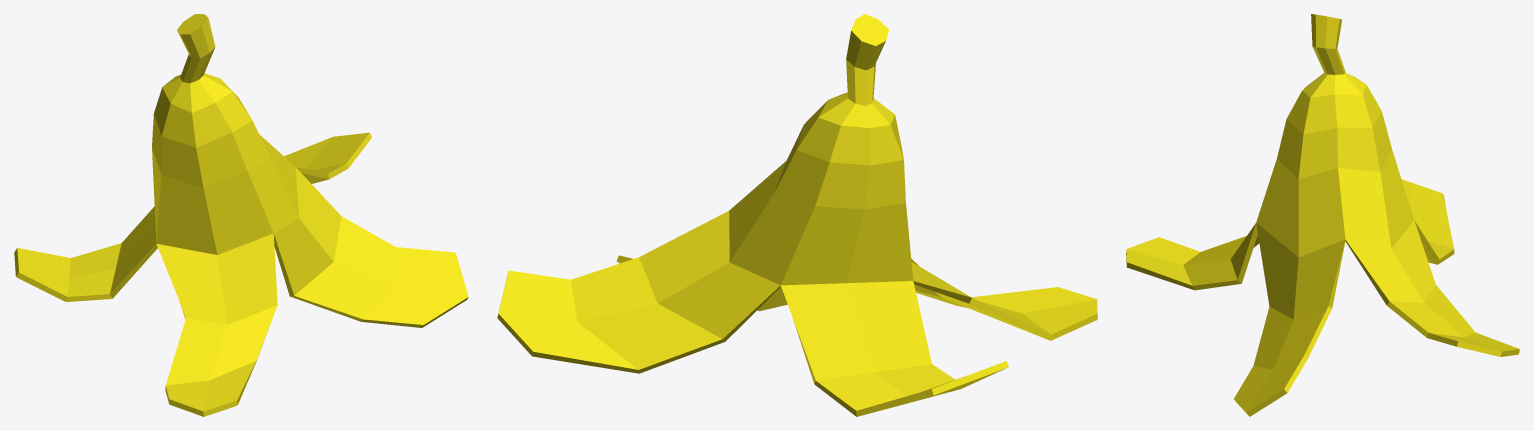
File: Trash_Banana_00.fbx
3 renders of one model, left to right at view 1: azimuth 30°, elevation 25°; view 2: azimuth 150°, elevation 25°; view 3: azimuth 270°, elevation 25°, orthographic. The views are drawn at different scales.
Visible parts, largest first — view 1: Banana_00; view 2: Banana_00; view 3: Banana_00.
Boxes of the visible parts, <box> form: Banana_00: <box>14,14,468,416</box>; Banana_00: <box>497,14,1097,416</box>; Banana_00: <box>1126,14,1519,416</box>.
Size of the model in its own units: 18.82 by 14.6 by 16.91.
